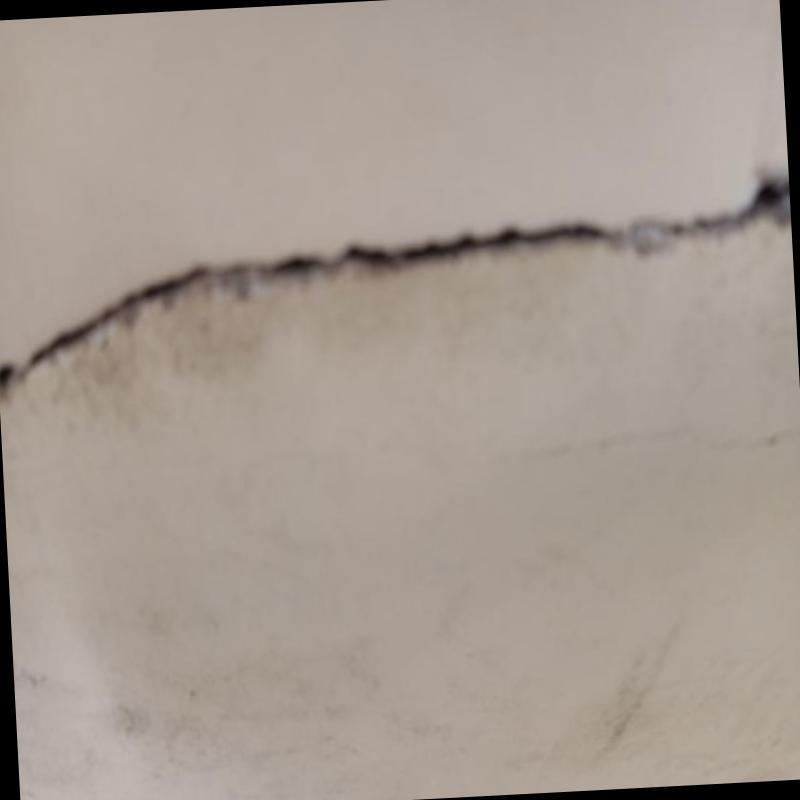pothole: (0, 177, 791, 396)
